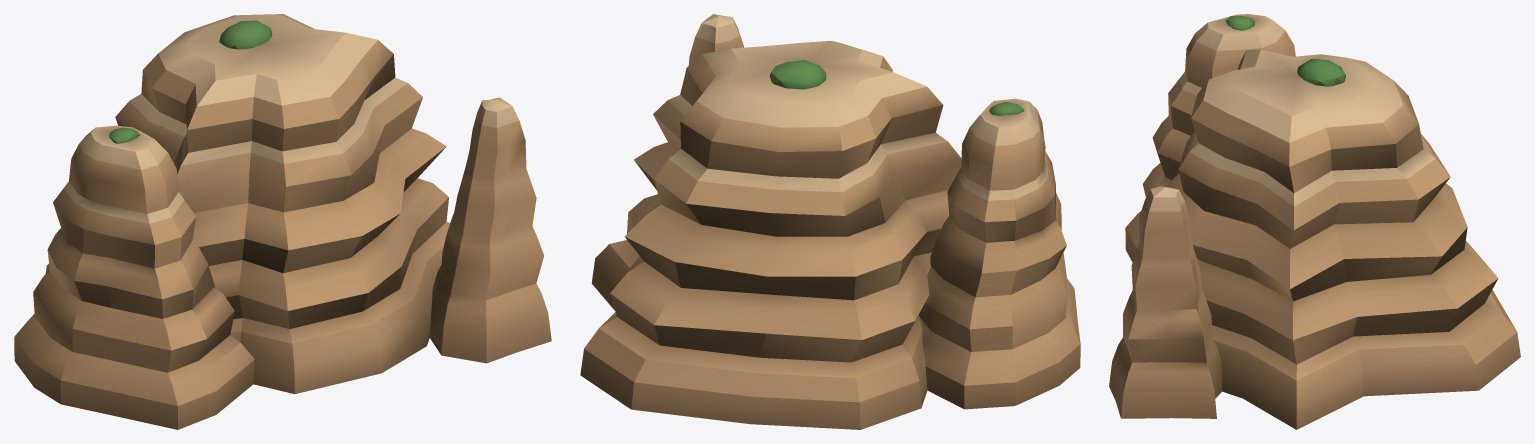
Rendered from rock_sea_b.fbx.
3 renders of one model, left to right at view 1: azimuth 30°, elevation 25°; view 2: azimuth 150°, elevation 25°; view 3: azimuth 270°, elevation 25°, orthographic. The views are drawn at different scales.
Parts seen in each view (by area): view 1: rock_sea_b; view 2: rock_sea_b; view 3: rock_sea_b.
Boxes of the visible parts, x1=… form: rock_sea_b: x1=14, y1=14, x2=551, y2=429; rock_sea_b: x1=580, y1=14, x2=1080, y2=429; rock_sea_b: x1=1109, y1=14, x2=1520, y2=429.
Bounding box in the file's own units: 8.22 × 4.88 × 6.84.
